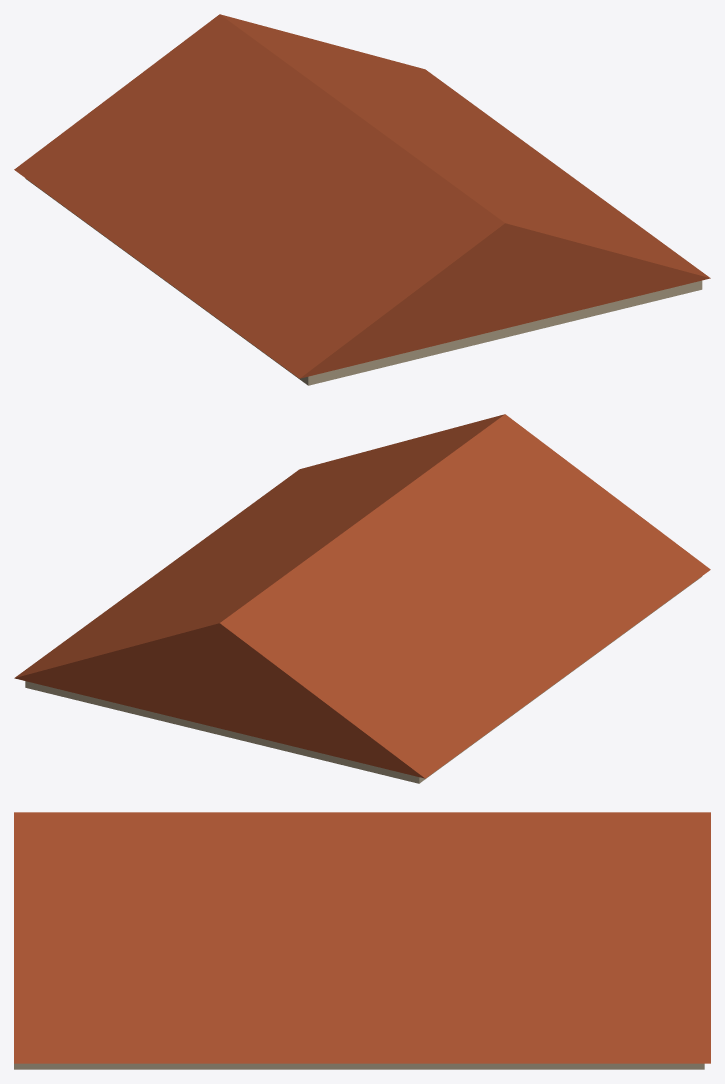
The model's file is telhado.glb.
3 renders of one model, top to bottom at view 1: azimuth 30°, elevation 25°; view 2: azimuth 150°, elevation 25°; view 3: azimuth 270°, elevation 25°, orthographic. The views are drawn at different scales.
Parts seen in each view (by area): view 1: telhado; view 2: telhado; view 3: telhado.
Part boxes in pixels (x1=…): telhado: x1=14, y1=14, x2=710, y2=385; telhado: x1=14, y1=414, x2=710, y2=783; telhado: x1=14, y1=812, x2=710, y2=1069.
Size of the model in its own units: 4.7 by 1.25 by 5.65.
